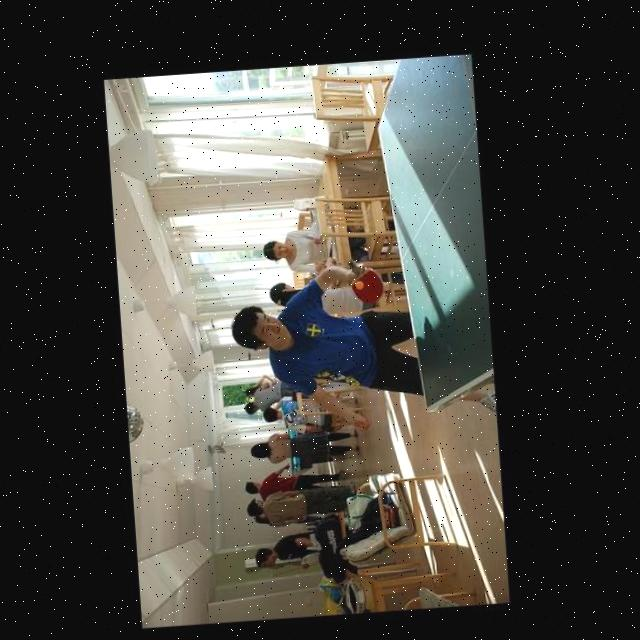ping-pong-ball: (353, 279, 364, 290)
